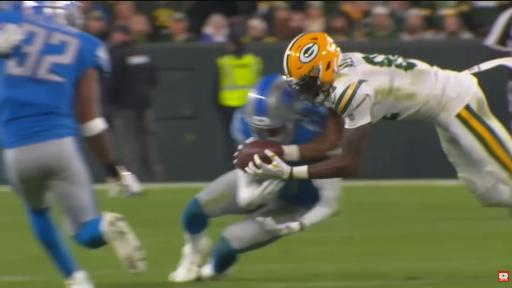Helmet: (284, 33, 341, 105), (244, 74, 300, 142), (21, 1, 84, 28)
Jersey: (0, 13, 110, 148), (326, 53, 477, 128), (283, 103, 326, 144)
Player: (247, 33, 511, 206), (0, 2, 145, 287), (169, 169, 340, 282)
